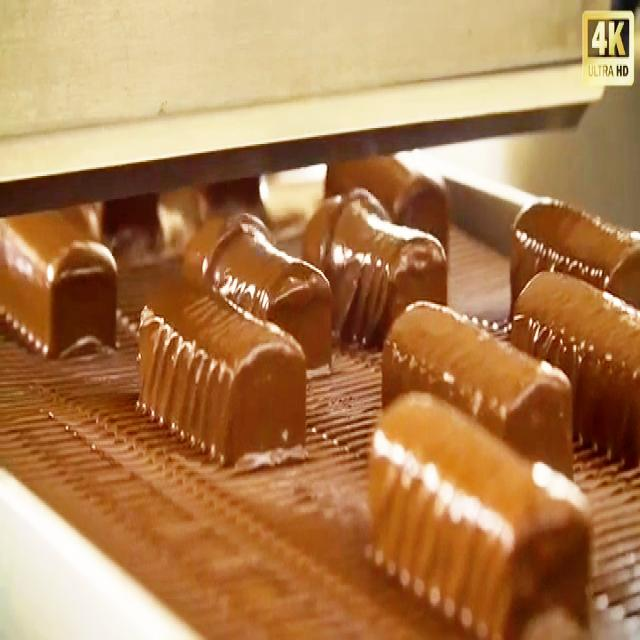Choco: (366, 386, 594, 634), (379, 295, 574, 477), (134, 283, 307, 464), (180, 203, 340, 384), (299, 180, 452, 356), (1, 205, 119, 358), (507, 190, 638, 311), (350, 159, 459, 286)
